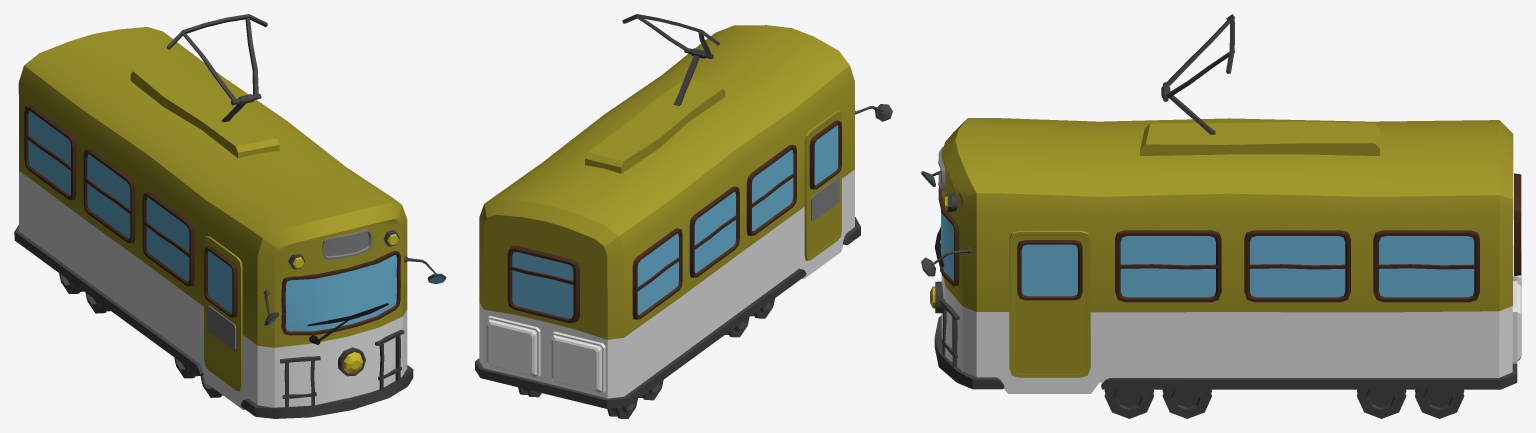
The model's file is SM_trainwagon.fbx.
3 views of the same model, side by side, from view 1: azimuth 30°, elevation 25°; view 2: azimuth 150°, elevation 25°; view 3: azimuth 270°, elevation 25° (orthographic). The views are drawn at different scales.
Visible parts, largest first — view 1: Box105; view 2: Box105; view 3: Box105.
Part boxes in pixels (x1,y1,x2,y2): Box105: (14, 14, 446, 418); Box105: (475, 14, 892, 418); Box105: (921, 14, 1521, 418).
Size of the model in its own units: 117 by 205 by 309.
